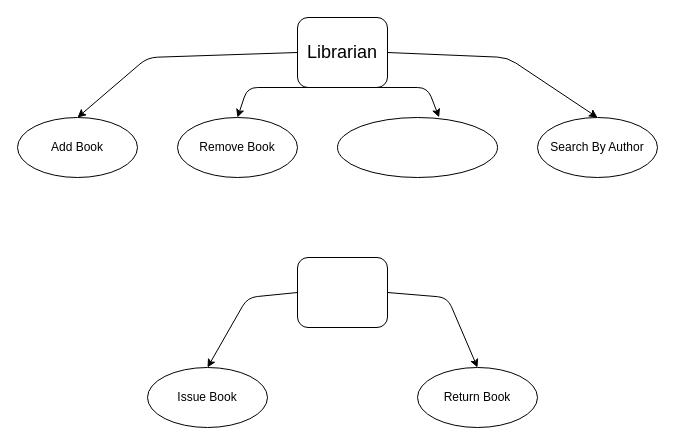
The diagram is 675 pixels wide and 445 high, and some of its shapes have lost their labels. The box of each missing label's shape, as (x1, y1, x2, y2) in pixels:
Remove Book Item from Catalog: (336, 116, 498, 178)
Student: (296, 256, 388, 328)
